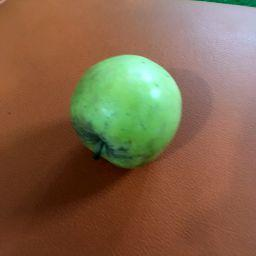apple: (67, 38, 195, 192)
